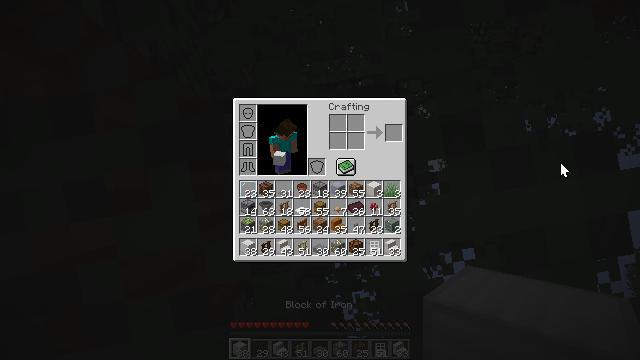cursor: (560, 162, 570, 178)
